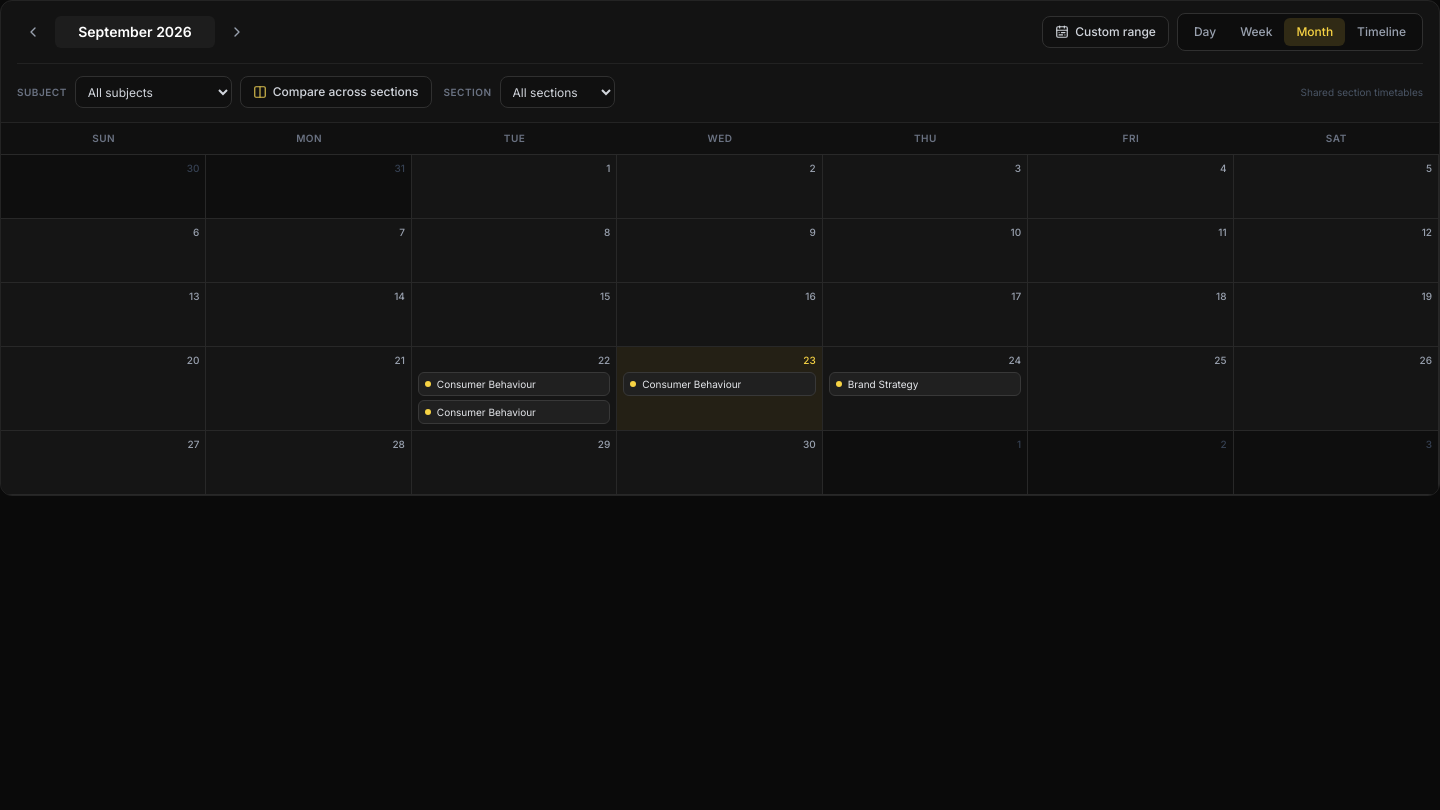
Test: AgendaList Integration with CrossSectionComparison › closes CrossSectionComparison modal when close is clicked inside the modal
The width and height of the screenshot is (1440, 810).
Step 1. Click the button "Compare across sections" → [336, 92], box [240,76,432,108]
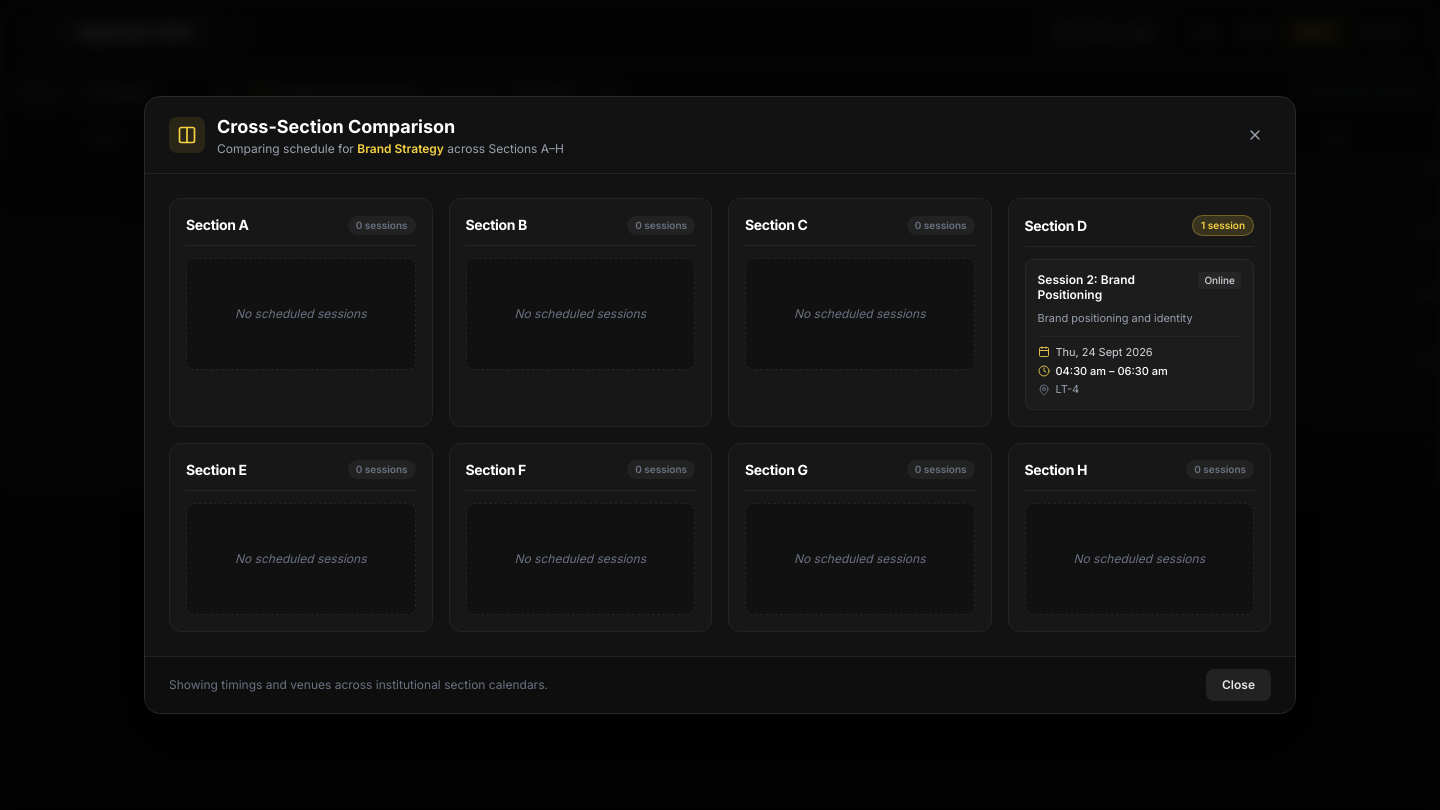
Expected: the dialog is shown
Step 2. Click the button named "Close comparison" → [1255, 135], box [1239,119,1271,151]
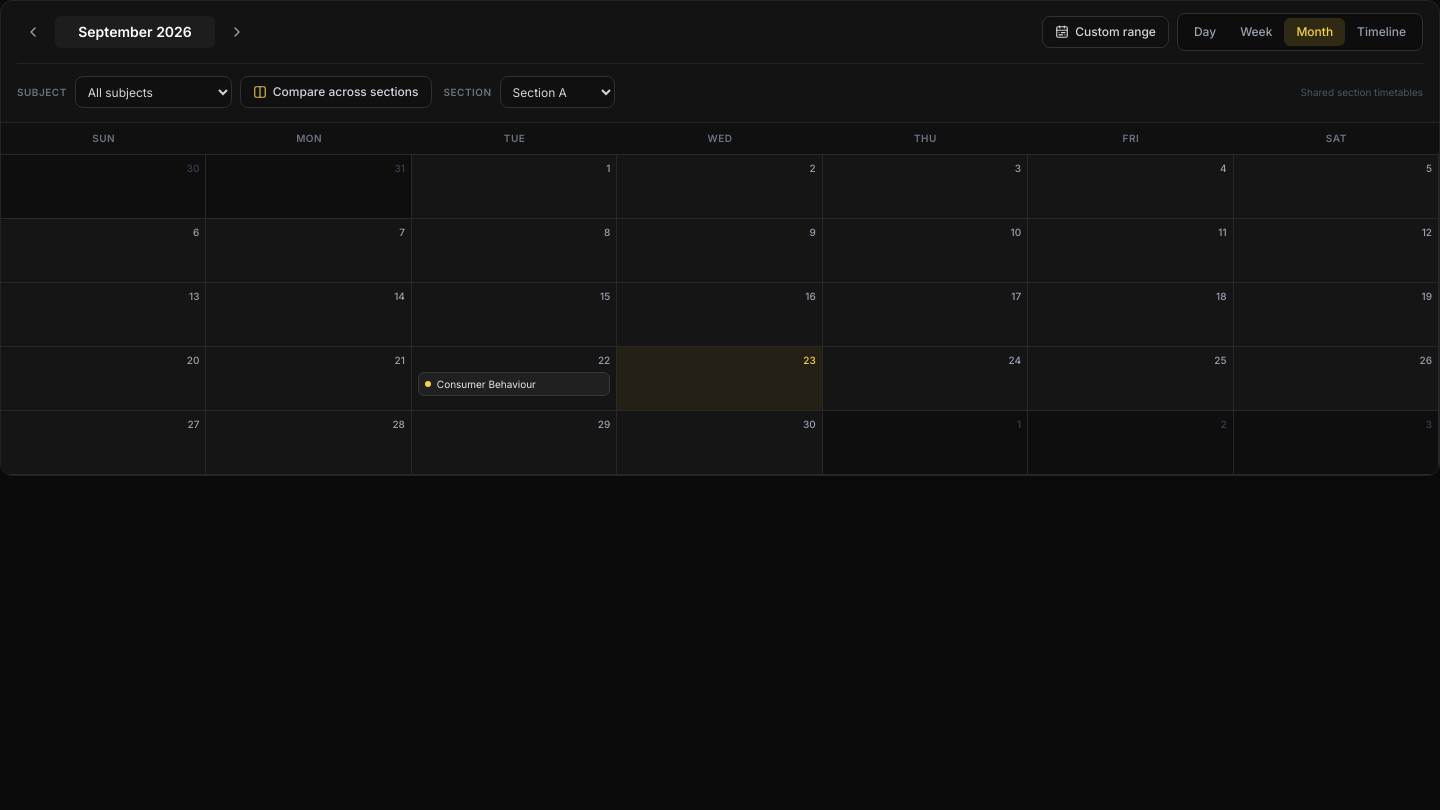
Expected: the dialog is gone
